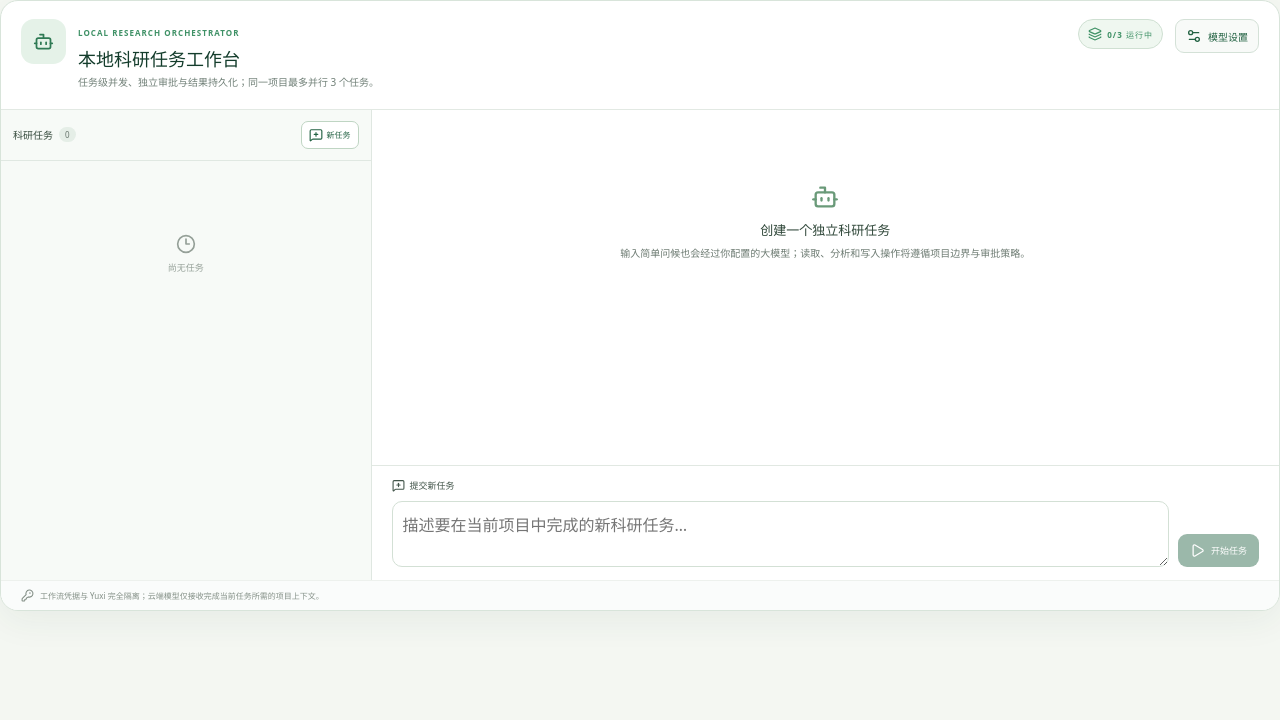
WorkflowAgentPanel › 把模型流式结果显示在页面，并用命令返回的权威结果完成 Markdown 表格渲染
In the text box with placeholder "描述要在当前项目中完成的新科研任务…": (780, 534) x1=392 y1=500 x2=1169 y2=566, type "读取 input/counts.csv 并汇总关键基因"
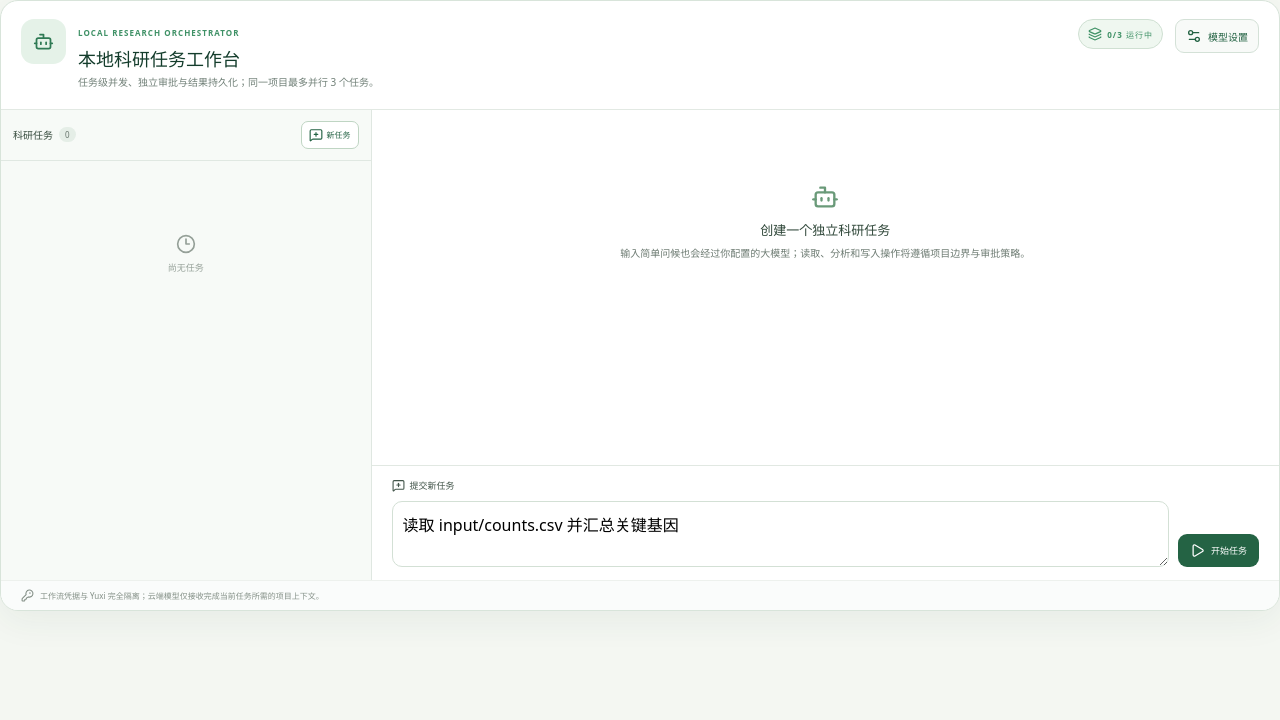
Click the button "开始任务": (1218, 550) x1=1178 y1=534 x2=1259 y2=566
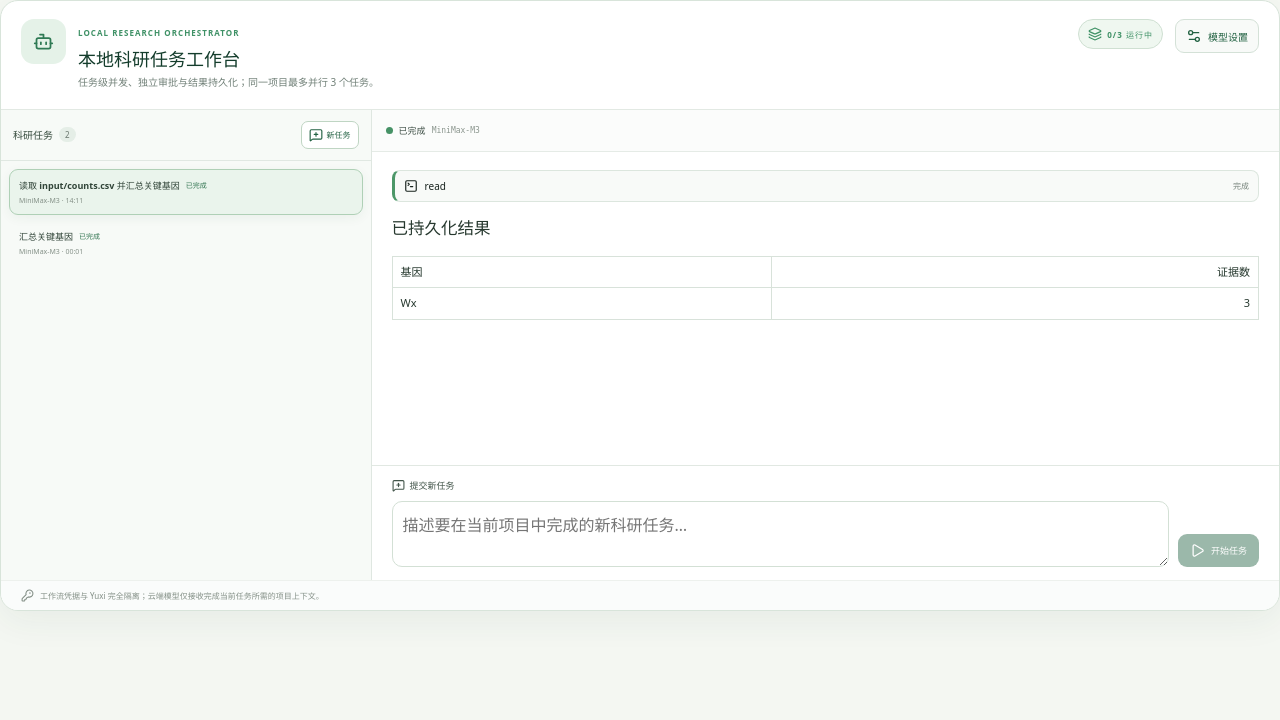
expect the table shows "Wx": met, box x1=401 y1=296 x2=417 y2=310
expect the heading "已持久化结果" is shown: met, box x1=392 y1=216 x2=491 y2=238
expect the text "汇总关键基因" is shown: met, box x1=19 y1=230 x2=73 y2=242
